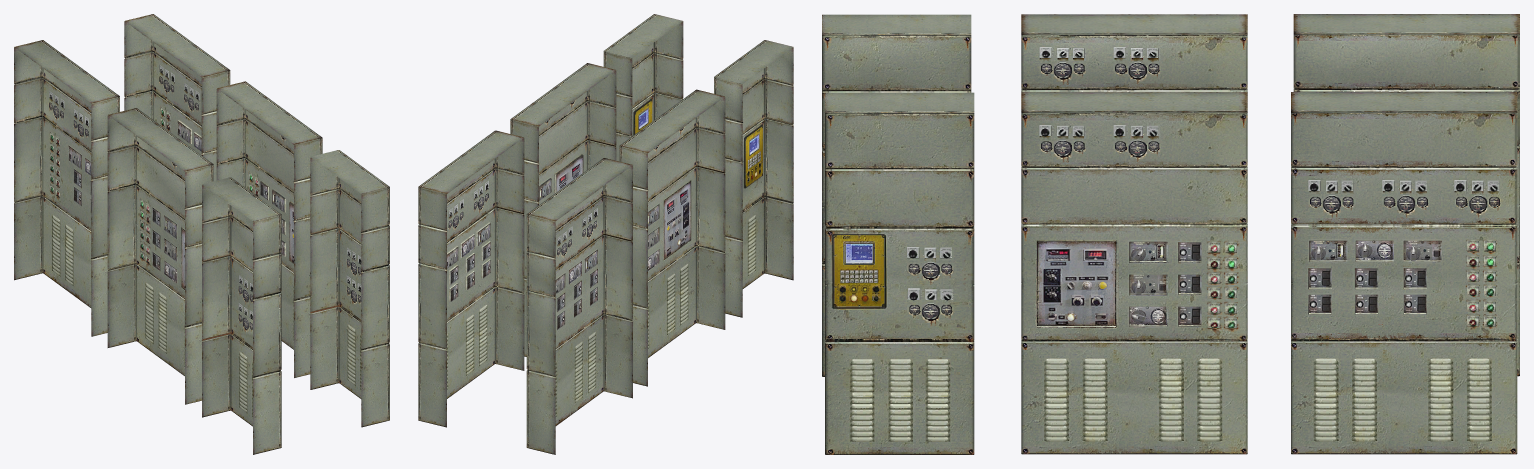
The model's file is wall_console.glb.
The picture shows the model from 3 angles, left to right: view 1: azimuth 30°, elevation 25°; view 2: azimuth 150°, elevation 25°; view 3: azimuth 270°, elevation 25°; orthographic projection. The views are drawn at different scales.
Parts seen in each view (by area): view 1: Body_wall_console1.smd.001_3, Body_wall_console3.smd.001_5, Body_wall_console2.smd_1, Body_wall_console2.smd.001_4, Body_wall_console1.smd_0, Body_wall_console3.smd_2; view 2: Body_wall_console3.smd.001_5, Body_wall_console3.smd_2, Body_wall_console1.smd.001_3, Body_wall_console2.smd.001_4, Body_wall_console1.smd_0, Body_wall_console2.smd_1; view 3: Body_wall_console3.smd_2, Body_wall_console1.smd_0, Body_wall_console2.smd_1, Body_wall_console3.smd.001_5, Body_wall_console1.smd.001_3, Body_wall_console2.smd.001_4.
Part boxes in pixels (left/top/right/bottom): Body_wall_console1.smd.001_3: left=107, top=108, right=213, bottom=404; Body_wall_console3.smd.001_5: left=14, top=40, right=119, bottom=336; Body_wall_console2.smd_1: left=310, top=150, right=389, bottom=427; Body_wall_console2.smd.001_4: left=202, top=177, right=281, bottom=454; Body_wall_console1.smd_0: left=216, top=81, right=322, bottom=377; Body_wall_console3.smd_2: left=124, top=14, right=230, bottom=180; Body_wall_console3.smd.001_5: left=526, top=158, right=632, bottom=454; Body_wall_console3.smd_2: left=418, top=130, right=524, bottom=427; Body_wall_console1.smd.001_3: left=619, top=89, right=725, bottom=386; Body_wall_console2.smd.001_4: left=714, top=40, right=793, bottom=317; Body_wall_console1.smd_0: left=510, top=63, right=616, bottom=356; Body_wall_console2.smd_1: left=603, top=14, right=683, bottom=161; Body_wall_console3.smd_2: left=1291, top=92, right=1517, bottom=454; Body_wall_console1.smd_0: left=1021, top=92, right=1247, bottom=454; Body_wall_console2.smd_1: left=825, top=92, right=974, bottom=454; Body_wall_console3.smd.001_5: left=1293, top=14, right=1519, bottom=376; Body_wall_console1.smd.001_3: left=1021, top=14, right=1247, bottom=92; Body_wall_console2.smd.001_4: left=822, top=14, right=971, bottom=376.
Bounding box in the file's own units: 1.15 × 1.83 × 3.38.
4 materials, 4 textured.
